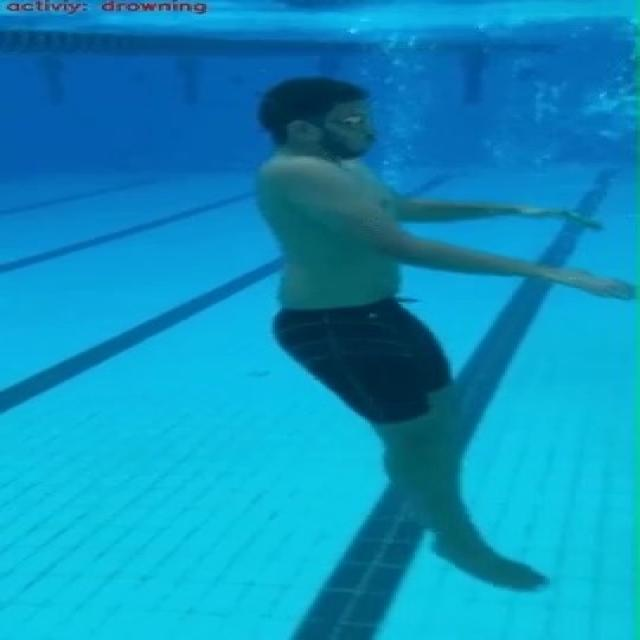Drowning: (248, 76, 634, 594)
